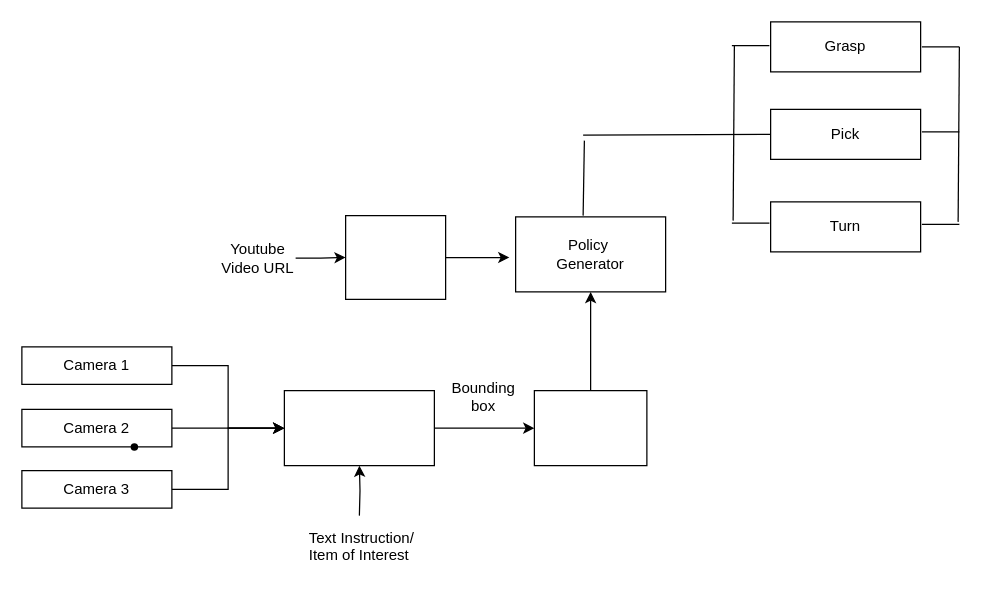
Some shapes in this 983 by 605 pixel diagram are drawn without their labels. The shapes that lost their labels are listed below. From the top down, each one's centre as x and y in pixels, then its label:
[395,256]: Video to Recipe
[358,427]: dwani.ai Vision API
[590,427]: World Model
